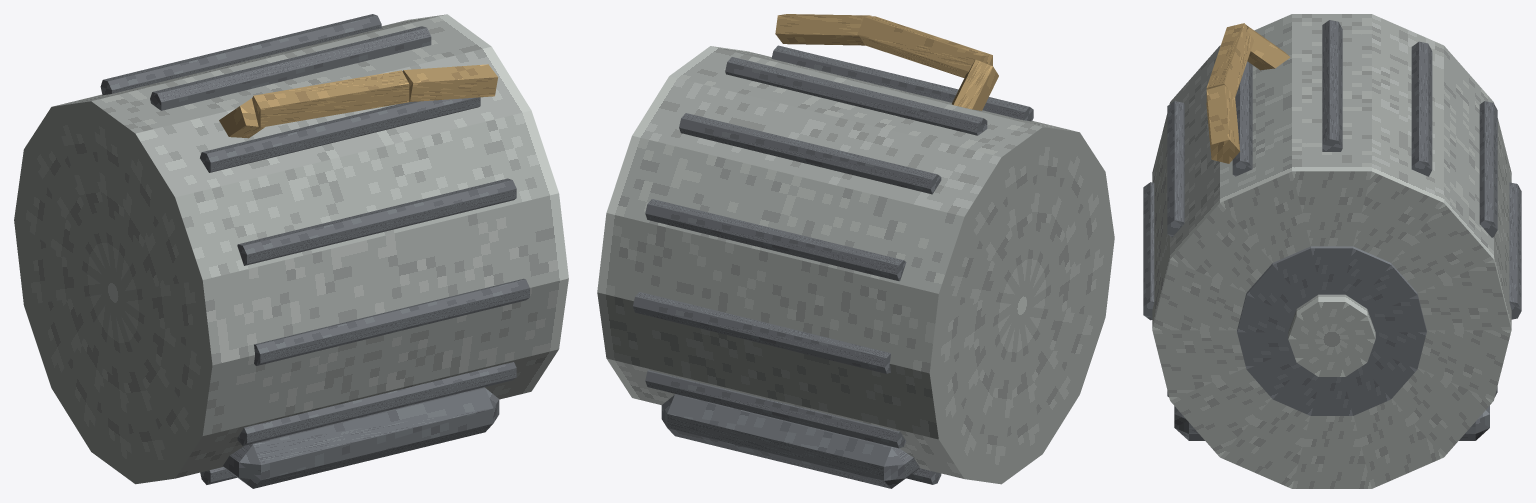
File: compressor.glb
3 views of the same model, side by side, from view 1: azimuth 30°, elevation 25°; view 2: azimuth 150°, elevation 25°; view 3: azimuth 270°, elevation 25° (orthographic). The views are drawn at different scales.
Visible parts, largest first — view 1: block_vented cast body, block_cooling rib (×6), block_mounting foot, block_service tube 1, block_service tube 2, block_service tube 0; view 2: block_vented cast body, block_cooling rib (×6), block_mounting foot, block_service tube 1, block_service tube 2, block_service tube 0; view 3: block_vented cast body, block_drive pulley, block_cooling rib (×7), block_hub centre, block_service tube 2, block_service tube 1, block_service tube 0, block_mounting foot.
Boxes of the visible parts, x1,y1,x2,y2 form: block_vented cast body: (14, 14, 568, 484); block_cooling rib (×6): (100, 14, 529, 445); block_mounting foot: (223, 387, 499, 488); block_service tube 1: (252, 70, 409, 127); block_service tube 2: (402, 64, 498, 101); block_service tube 0: (219, 98, 264, 138); block_vented cast body: (597, 46, 1114, 484); block_cooling rib (×6): (633, 45, 1033, 448); block_mounting foot: (661, 394, 919, 488); block_service tube 1: (857, 16, 992, 77); block_service tube 2: (775, 14, 871, 45); block_service tube 0: (952, 59, 998, 110); block_vented cast body: (1152, 14, 1511, 488); block_drive pulley: (1237, 246, 1426, 415); block_cooling rib (×7): (1143, 20, 1521, 320); block_hub centre: (1288, 294, 1375, 376); block_service tube 2: (1206, 85, 1240, 163); block_service tube 1: (1206, 23, 1253, 97); block_service tube 0: (1246, 25, 1290, 70); block_mounting foot: (1174, 405, 1489, 440).
Bounding box in the file's own units: 0.2706 × 0.274 × 0.2597.
1 material, 1 textured.
